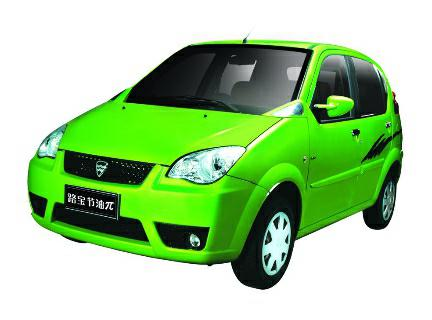哈飞-路宝: (21, 30, 415, 302)
